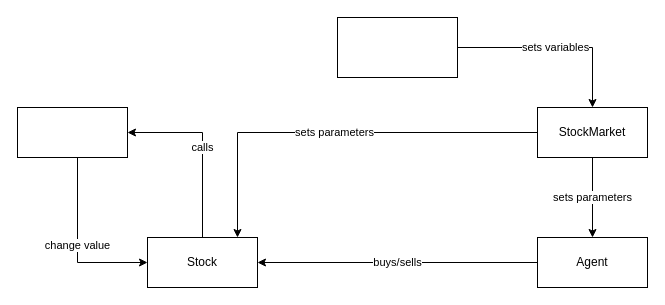
Image size: 665x305. Some labels were removed from this diagram. The shapes that lost their labels are listed below. From the top down, each one's box as (x1, y1, x2, y2) in pixels, then its label:
(336, 16, 458, 78): User Input
(16, 106, 128, 158): Change Stock
